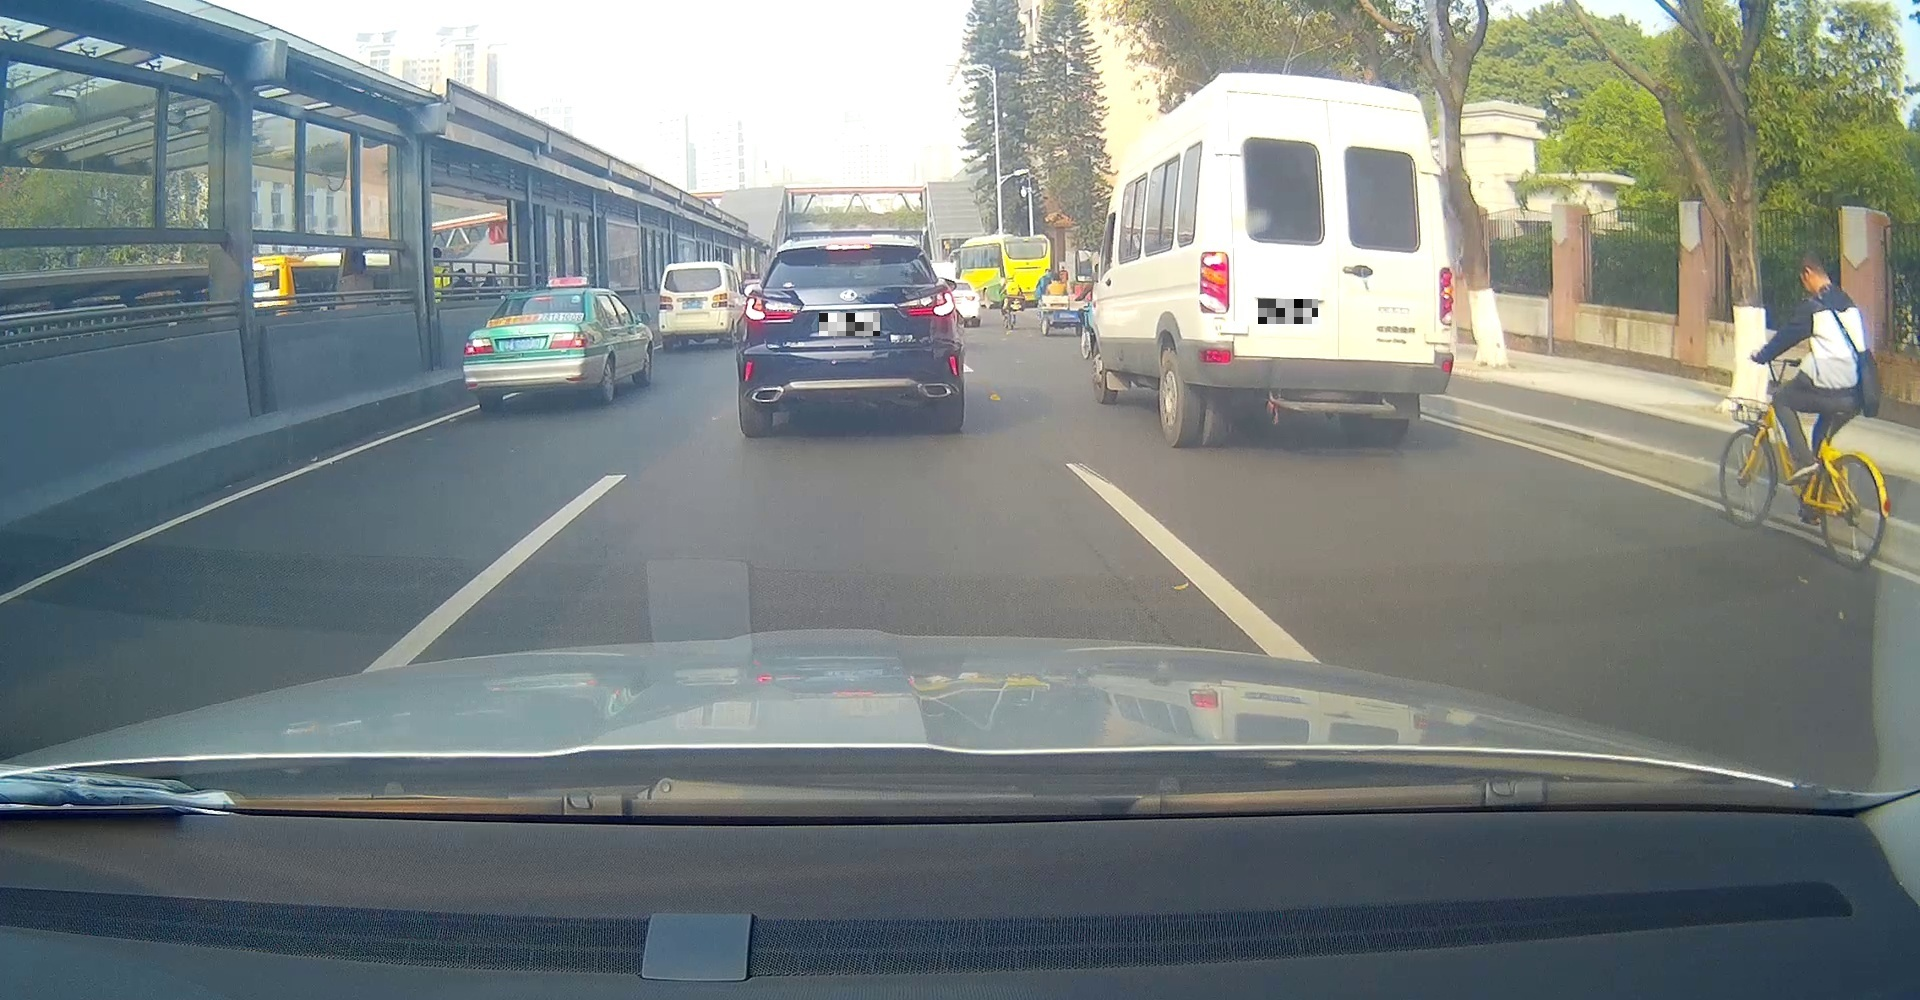L_light: (1200, 251, 1229, 313), (742, 296, 803, 324), (463, 339, 495, 354), (658, 294, 673, 311)
R_light: (895, 289, 955, 320), (1437, 266, 1455, 327), (547, 331, 588, 348), (711, 292, 728, 308)
T_light: (1308, 89, 1352, 102), (825, 245, 872, 251), (533, 296, 554, 299), (690, 269, 705, 272)
day-brake: (739, 236, 964, 437), (463, 289, 596, 411)
day-no: (1196, 72, 1458, 448), (658, 261, 731, 350)
plate_1: (819, 313, 880, 336)
plate_2: (1258, 299, 1318, 324)
